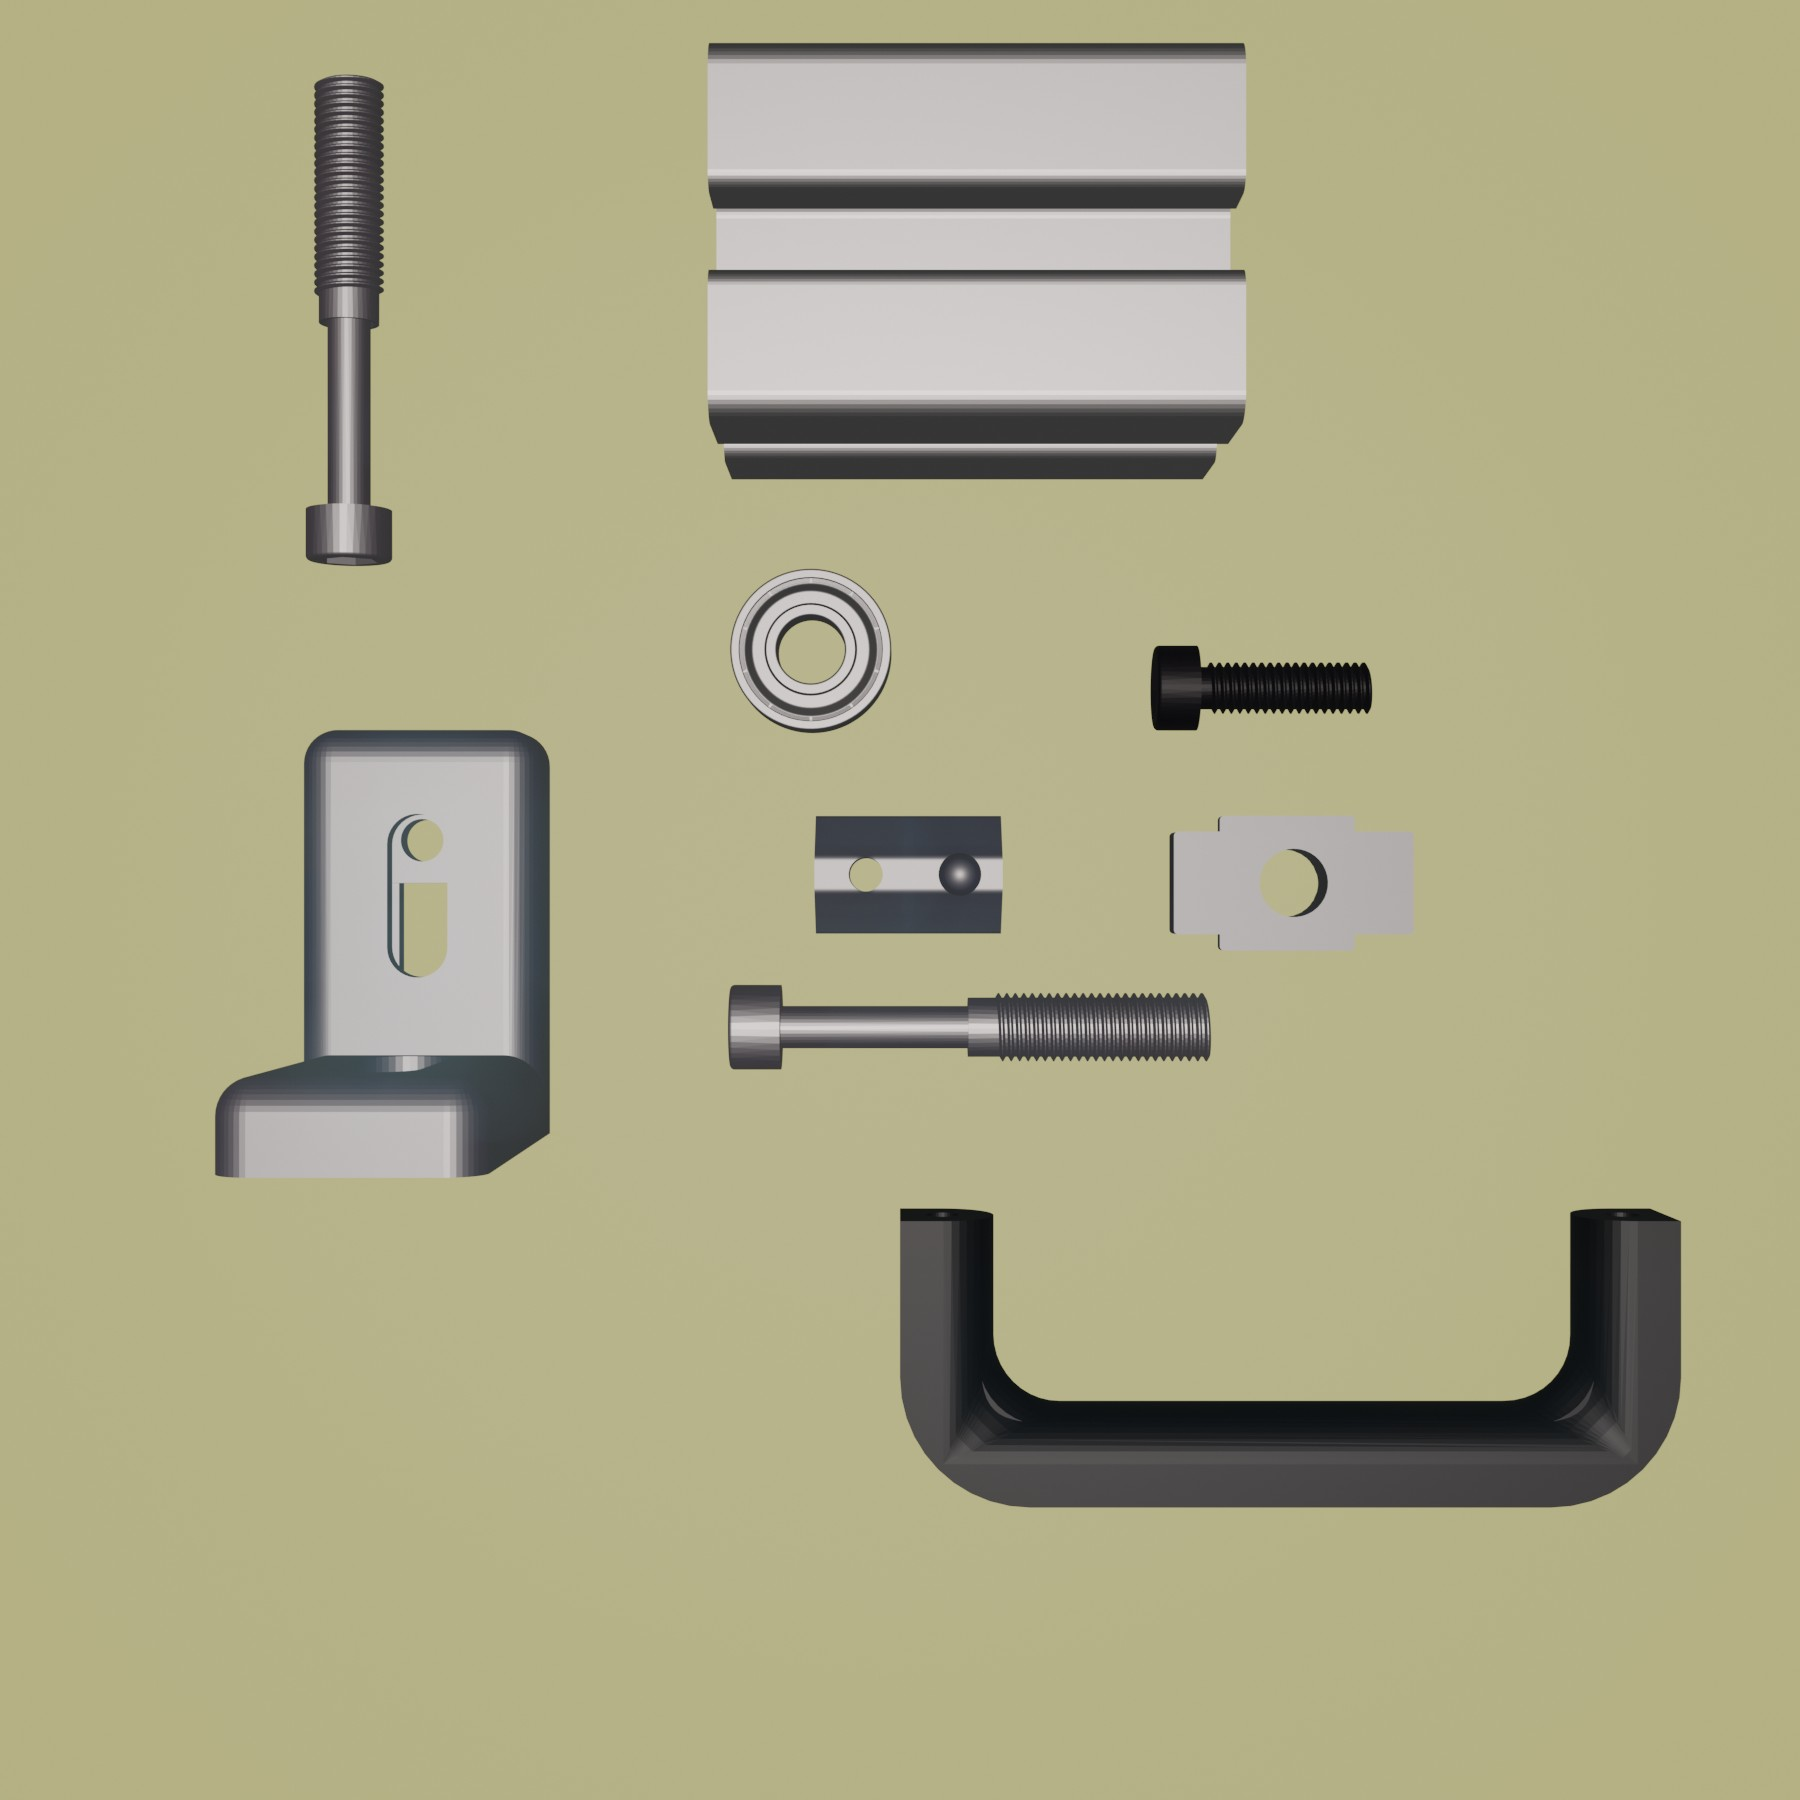Aluminium Extension: (701, 40, 1253, 486)
Ball Bearing: (729, 564, 897, 738)
Multiwinkel: (213, 724, 555, 1185)
Pull Handle: (893, 1203, 1686, 1512)
Shoulder Socket Head Cap Screw: (302, 69, 396, 572), (724, 981, 1213, 1075)
Socket Head Cap Screw: (1146, 641, 1375, 735)
T Nut Square: (1162, 808, 1419, 958)
T Spring Nut: (809, 808, 1009, 938)
